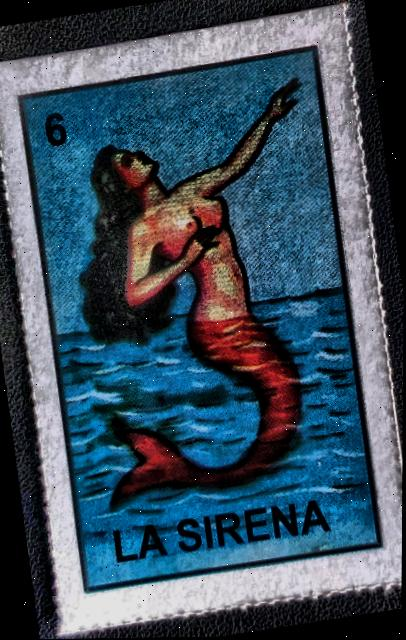La Sirena: (3, 33, 400, 608)
